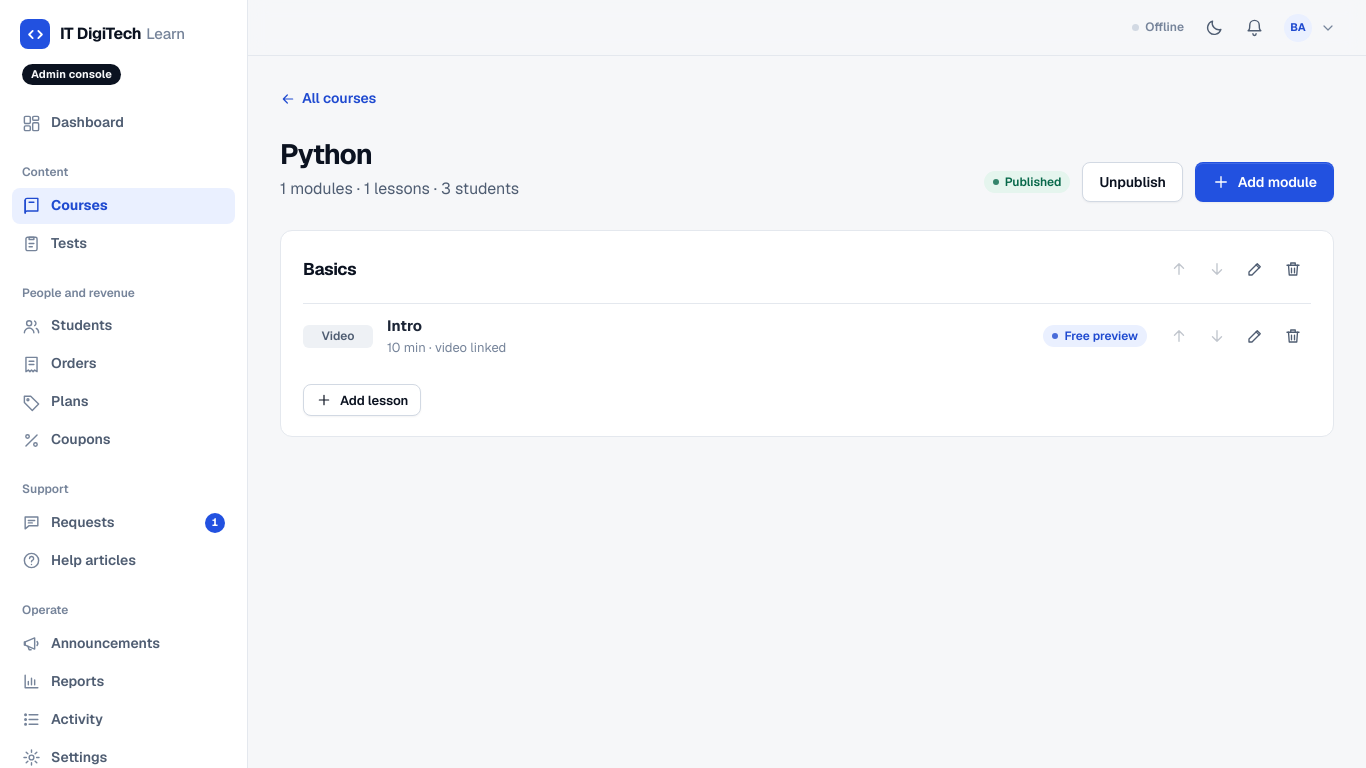
Test: admin console › renders the curriculum editor
The image size is (1366, 768).
Expected: the heading "Basics" is shown, 303,259 -> 356,279
Expected: the text "Intro" is shown, 387,316 -> 422,335
Click the button "Add lesson" at (362, 400), box 303,384 -> 421,416
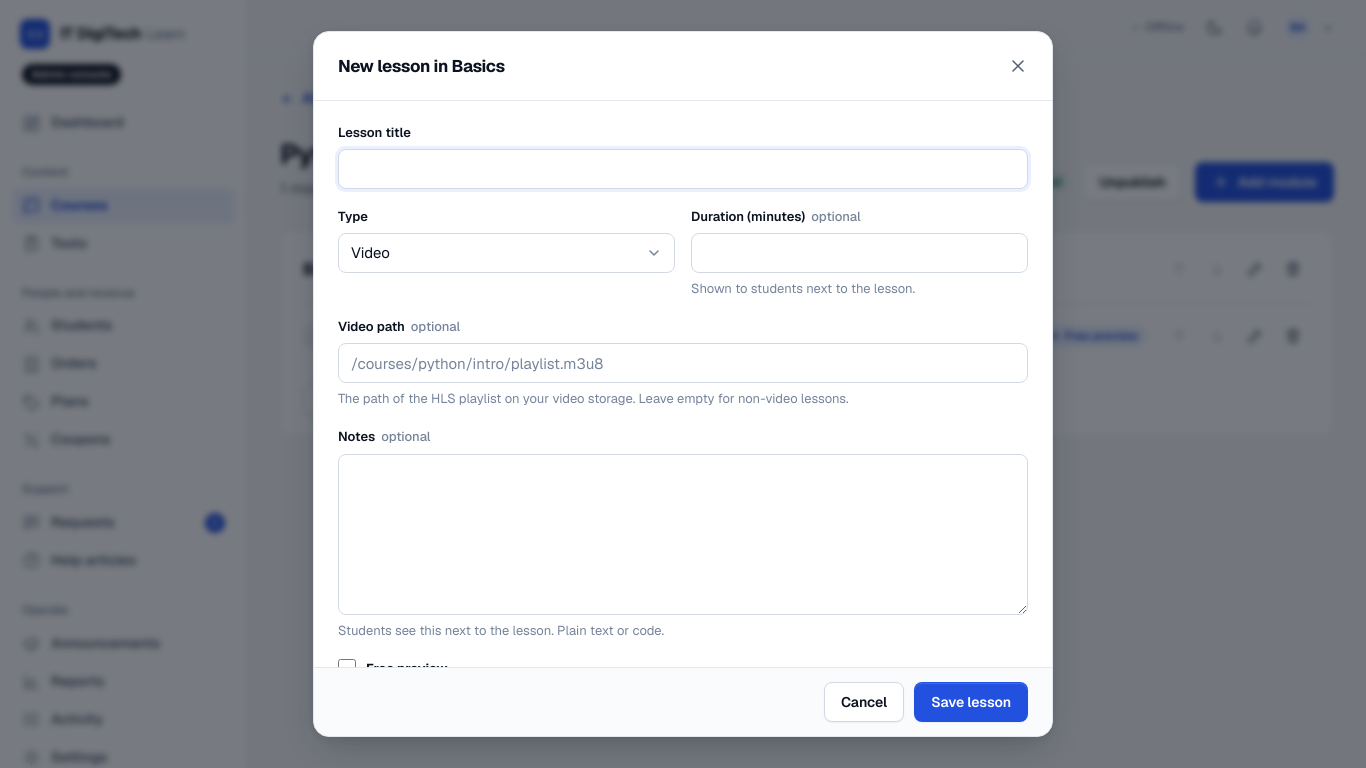
Expected: the dialog is shown, 313,31 -> 1053,737
